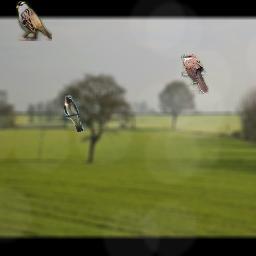Cuckoo: (181, 54, 209, 94)
Sparrow: (16, 1, 52, 41)
Swallow: (64, 95, 84, 132)
